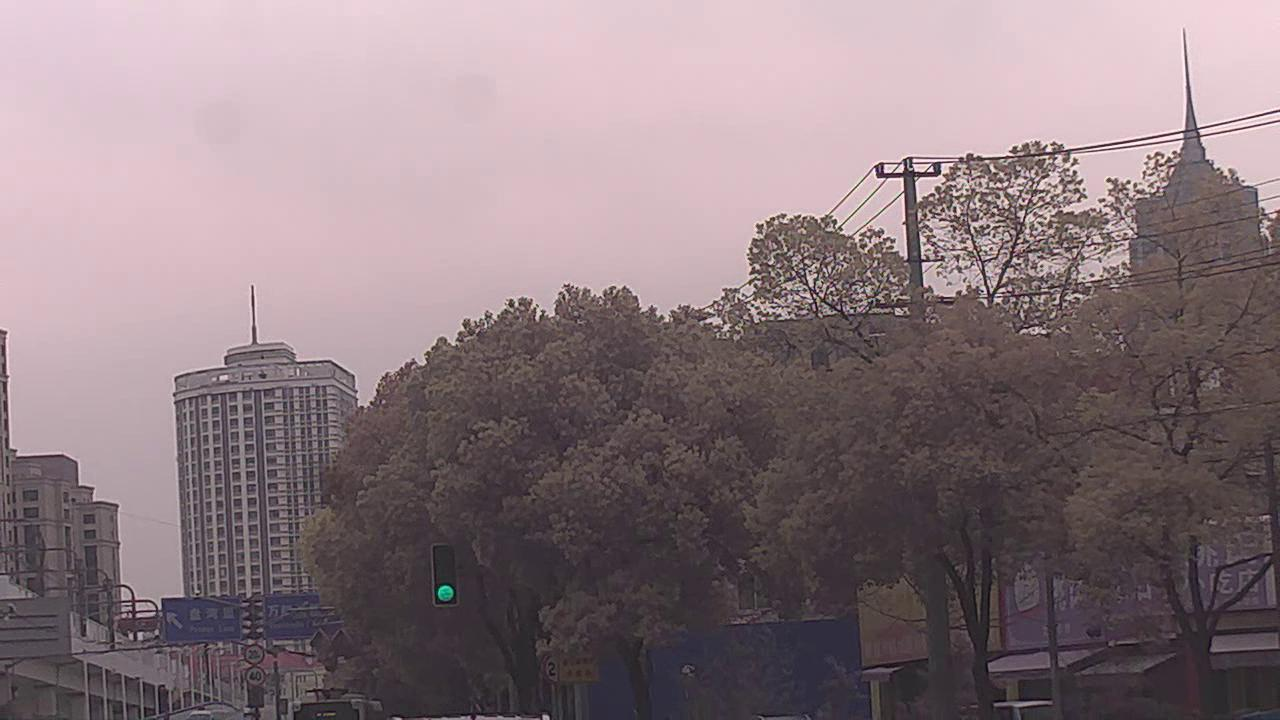traffic_light: (433, 542, 459, 605)
